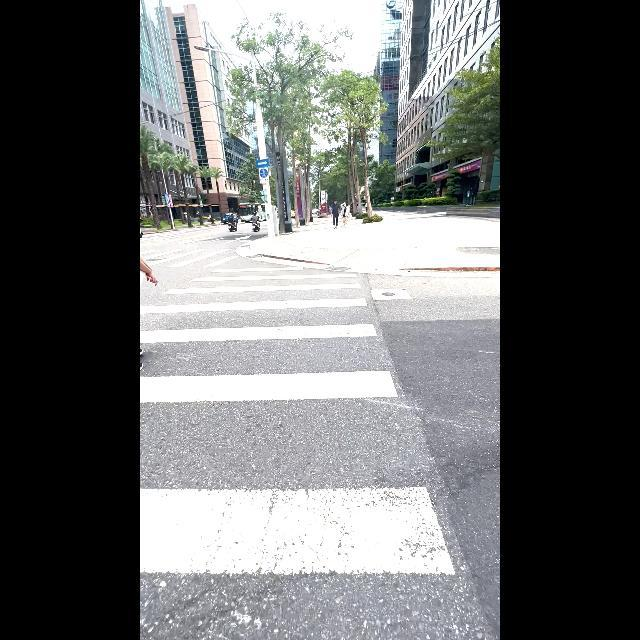sidewalk: (141, 267, 455, 574)
